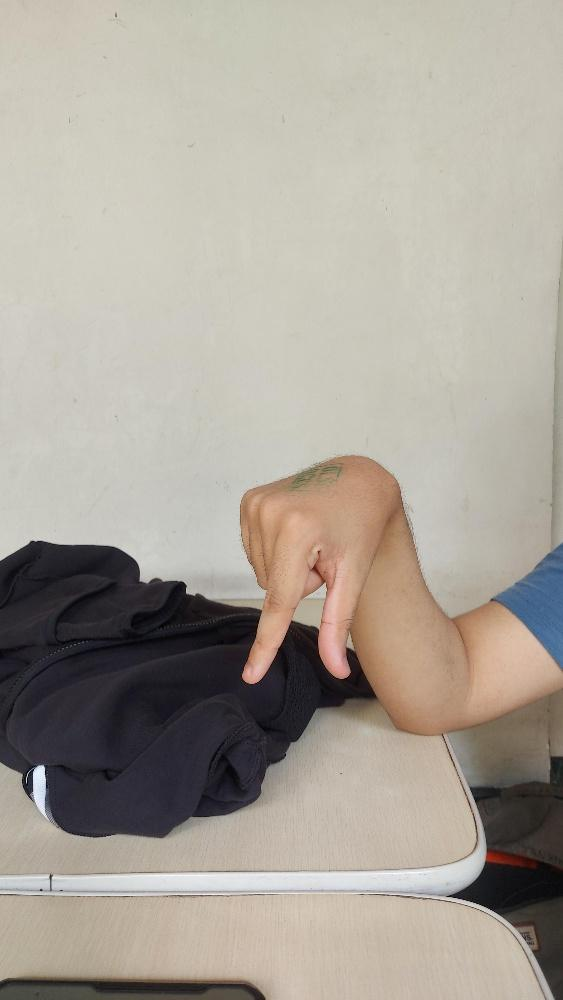q: (239, 454, 392, 683)
